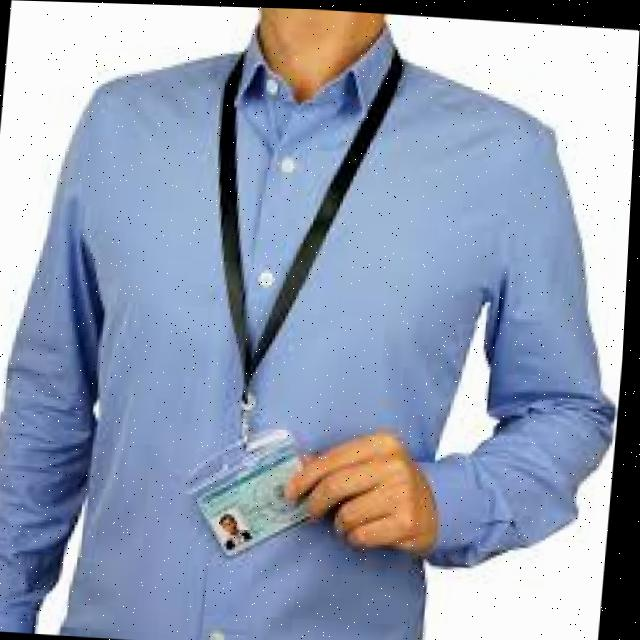id_card: (177, 60, 371, 565)
